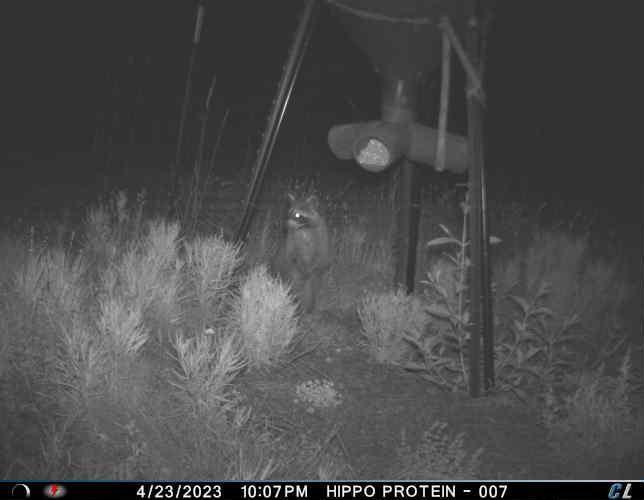Raccoon: (267, 190, 333, 321)
